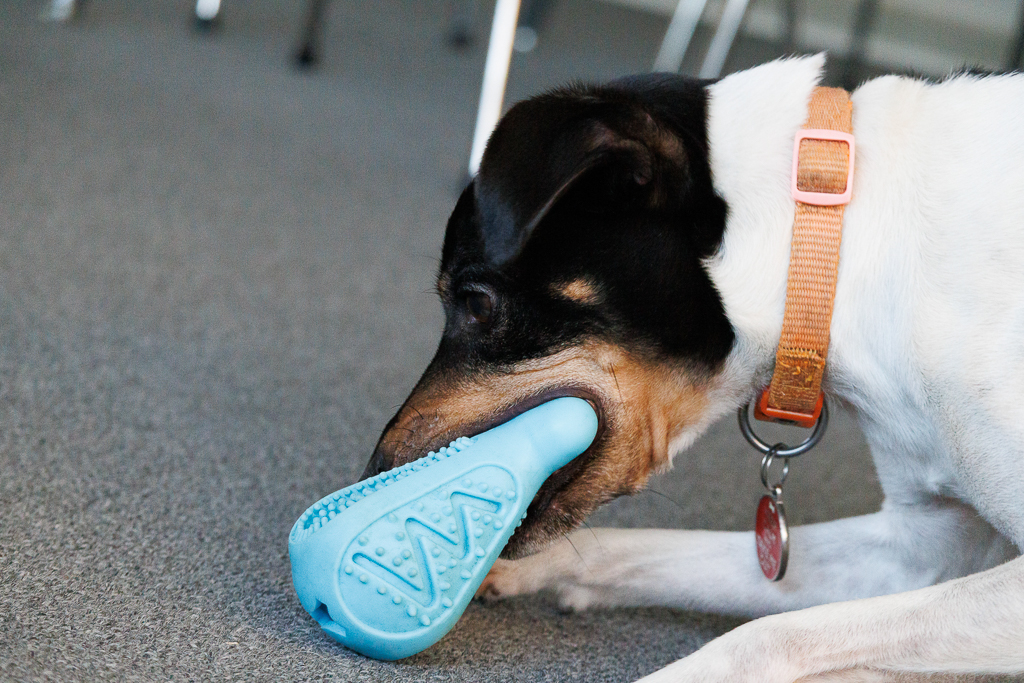Dog: (347, 46, 1023, 682)
